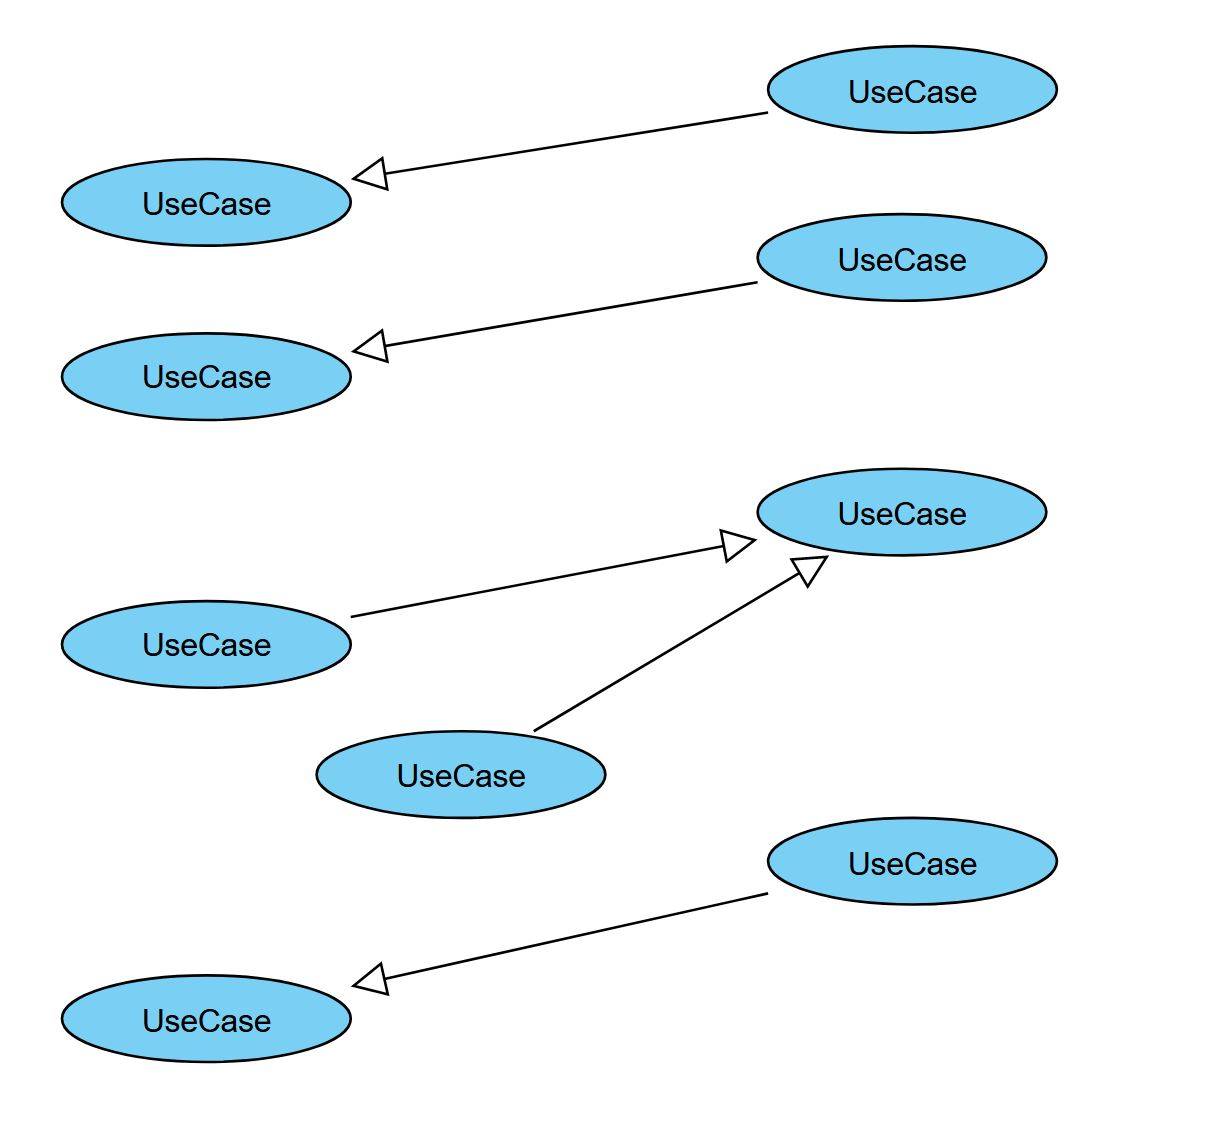generalization: (528, 554, 830, 730), (353, 888, 771, 992), (352, 528, 758, 619), (353, 106, 768, 190), (352, 277, 758, 360)
text: (386, 749, 536, 797), (128, 360, 285, 400), (133, 996, 276, 1038), (836, 70, 986, 110), (827, 490, 975, 529), (134, 624, 275, 663), (826, 242, 974, 277), (842, 842, 981, 879), (139, 184, 274, 216)
use_case: (767, 812, 1059, 908), (55, 973, 355, 1065), (60, 598, 352, 690), (755, 212, 1050, 302), (767, 43, 1060, 133), (59, 155, 355, 245), (316, 727, 606, 818), (757, 467, 1047, 558), (61, 331, 352, 421)
